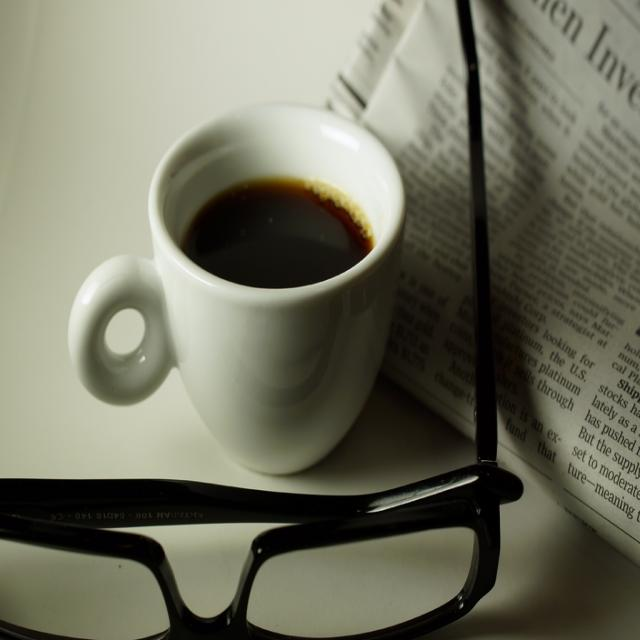Coffee: (180, 172, 367, 286)
Tea: (178, 179, 372, 286)
